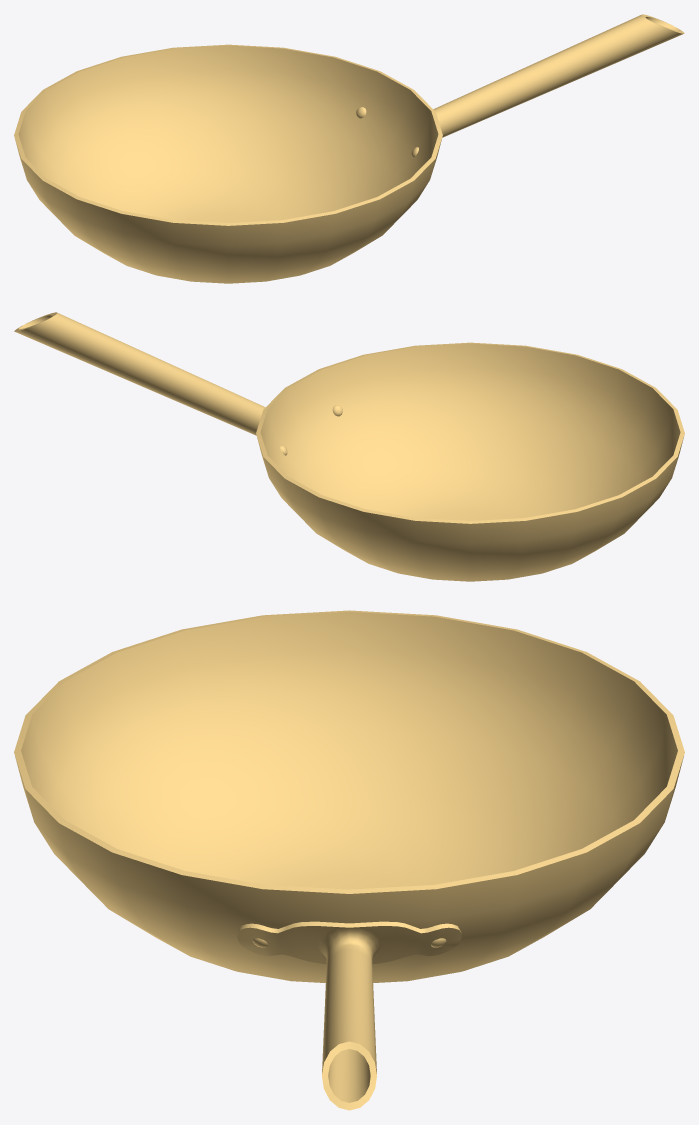
File: SM_Pan_01.fbx
3 renders of one model, top to bottom at view 1: azimuth 30°, elevation 25°; view 2: azimuth 150°, elevation 25°; view 3: azimuth 270°, elevation 25°, orthographic. The views are drawn at different scales.
Parts seen in each view (by area): view 1: SM_Pan_01; view 2: SM_Pan_01; view 3: SM_Pan_01.
Part boxes in pixels (<box>): SM_Pan_01: <box>14,14,684,283</box>; SM_Pan_01: <box>14,312,684,581</box>; SM_Pan_01: <box>14,610,684,1110</box>.
Size of the model in its own units: 65.19 by 12.4 by 37.82.
